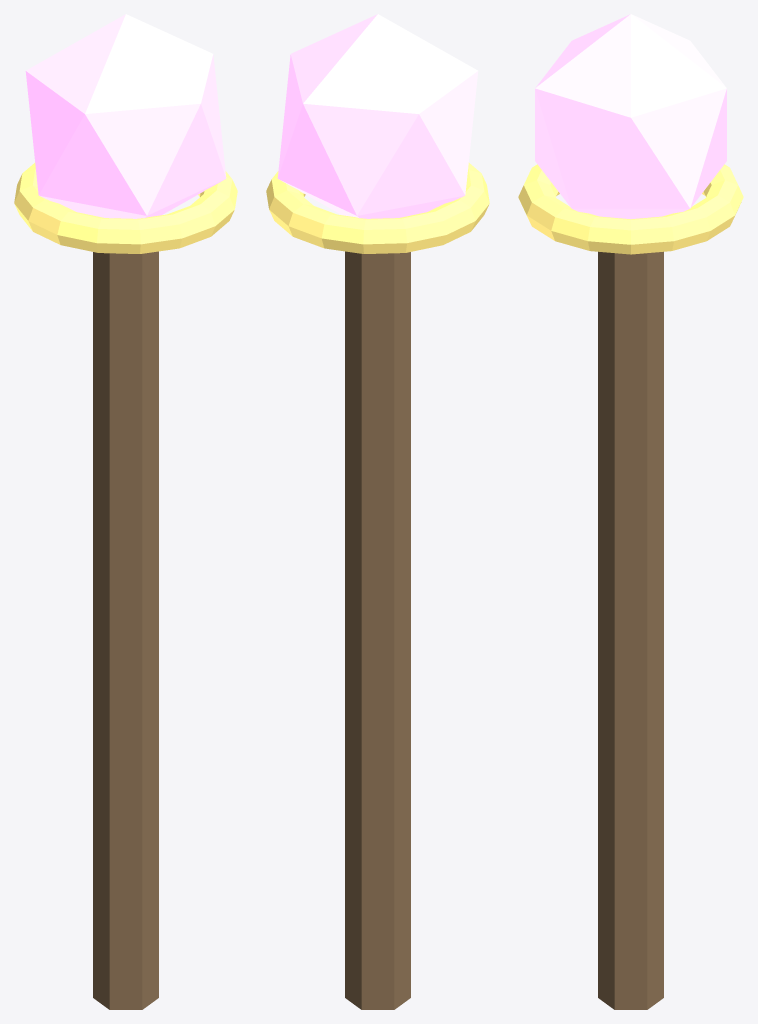
File: staff.glb
3 renders of one model, left to right at view 1: azimuth 30°, elevation 25°; view 2: azimuth 150°, elevation 25°; view 3: azimuth 270°, elevation 25°, orthographic.
Parts seen in each view (by area): view 1: StaffShaft, StaffOrb, StaffClaw; view 2: StaffShaft, StaffOrb, StaffClaw; view 3: StaffShaft, StaffOrb, StaffClaw.
Boxes of the visible parts, <box> form: StaffShaft: <box>93,251,158,1009</box>; StaffOrb: <box>25,14,226,218</box>; StaffClaw: <box>14,162,237,253</box>; StaffShaft: <box>345,251,410,1009</box>; StaffOrb: <box>277,14,478,218</box>; StaffClaw: <box>266,162,489,253</box>; StaffShaft: <box>598,251,663,1009</box>; StaffOrb: <box>535,14,726,219</box>; StaffClaw: <box>518,164,743,254</box>.
Bounding box in the file's own units: 0.48 × 2.31 × 0.48.
